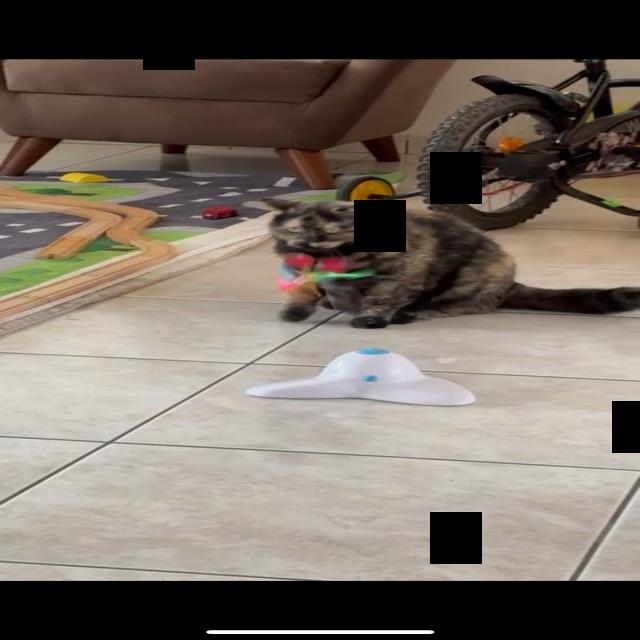authorized: (259, 197, 639, 329)
